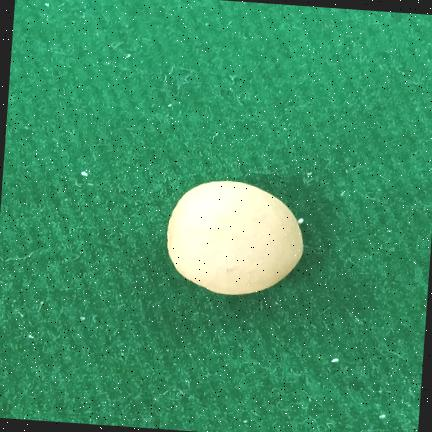parchment: (167, 180, 303, 294)
